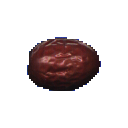gd: (23, 23, 120, 122)
